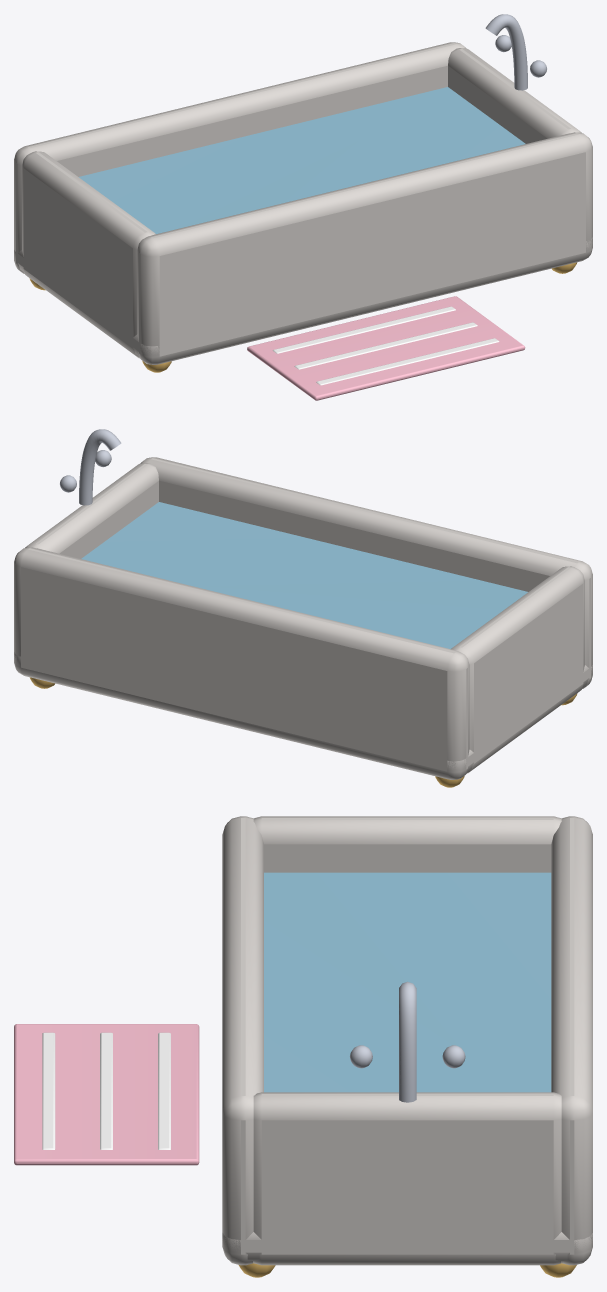
Rendered from bathtub.glb.
3 renders of one model, top to bottom at view 1: azimuth 30°, elevation 25°; view 2: azimuth 150°, elevation 25°; view 3: azimuth 270°, elevation 25°, orthographic. The views are drawn at different scales.
Visible parts, largest first — view 1: cfffaf6, water, mat, cffffff, cc7ccd8; view 2: cfffaf6, water, cc7ccd8; view 3: cfffaf6, water, mat, cffffff, cc7ccd8, cffd27a.
Boxes of the visible parts, left/top/right/bottom form: cfffaf6: left=14, top=42, right=592, bottom=364; water: left=79, top=87, right=525, bottom=233; mat: left=247, top=296, right=525, bottom=400; cffffff: left=273, top=306, right=499, bottom=385; cc7ccd8: left=485, top=14, right=546, bottom=90; cfffaf6: left=14, top=457, right=592, bottom=779; water: left=81, top=502, right=527, bottom=648; cc7ccd8: left=60, top=429, right=121, bottom=505; cfffaf6: left=222, top=816, right=592, bottom=1265; water: left=264, top=872, right=551, bottom=1092; mat: left=14, top=1024, right=199, bottom=1165; cffffff: left=42, top=1032, right=170, bottom=1149; cc7ccd8: left=350, top=981, right=465, bottom=1102; cffd27a: left=238, top=1263, right=576, bottom=1277.
Size of the model in its own units: 3 by 1.38 by 2.5.
